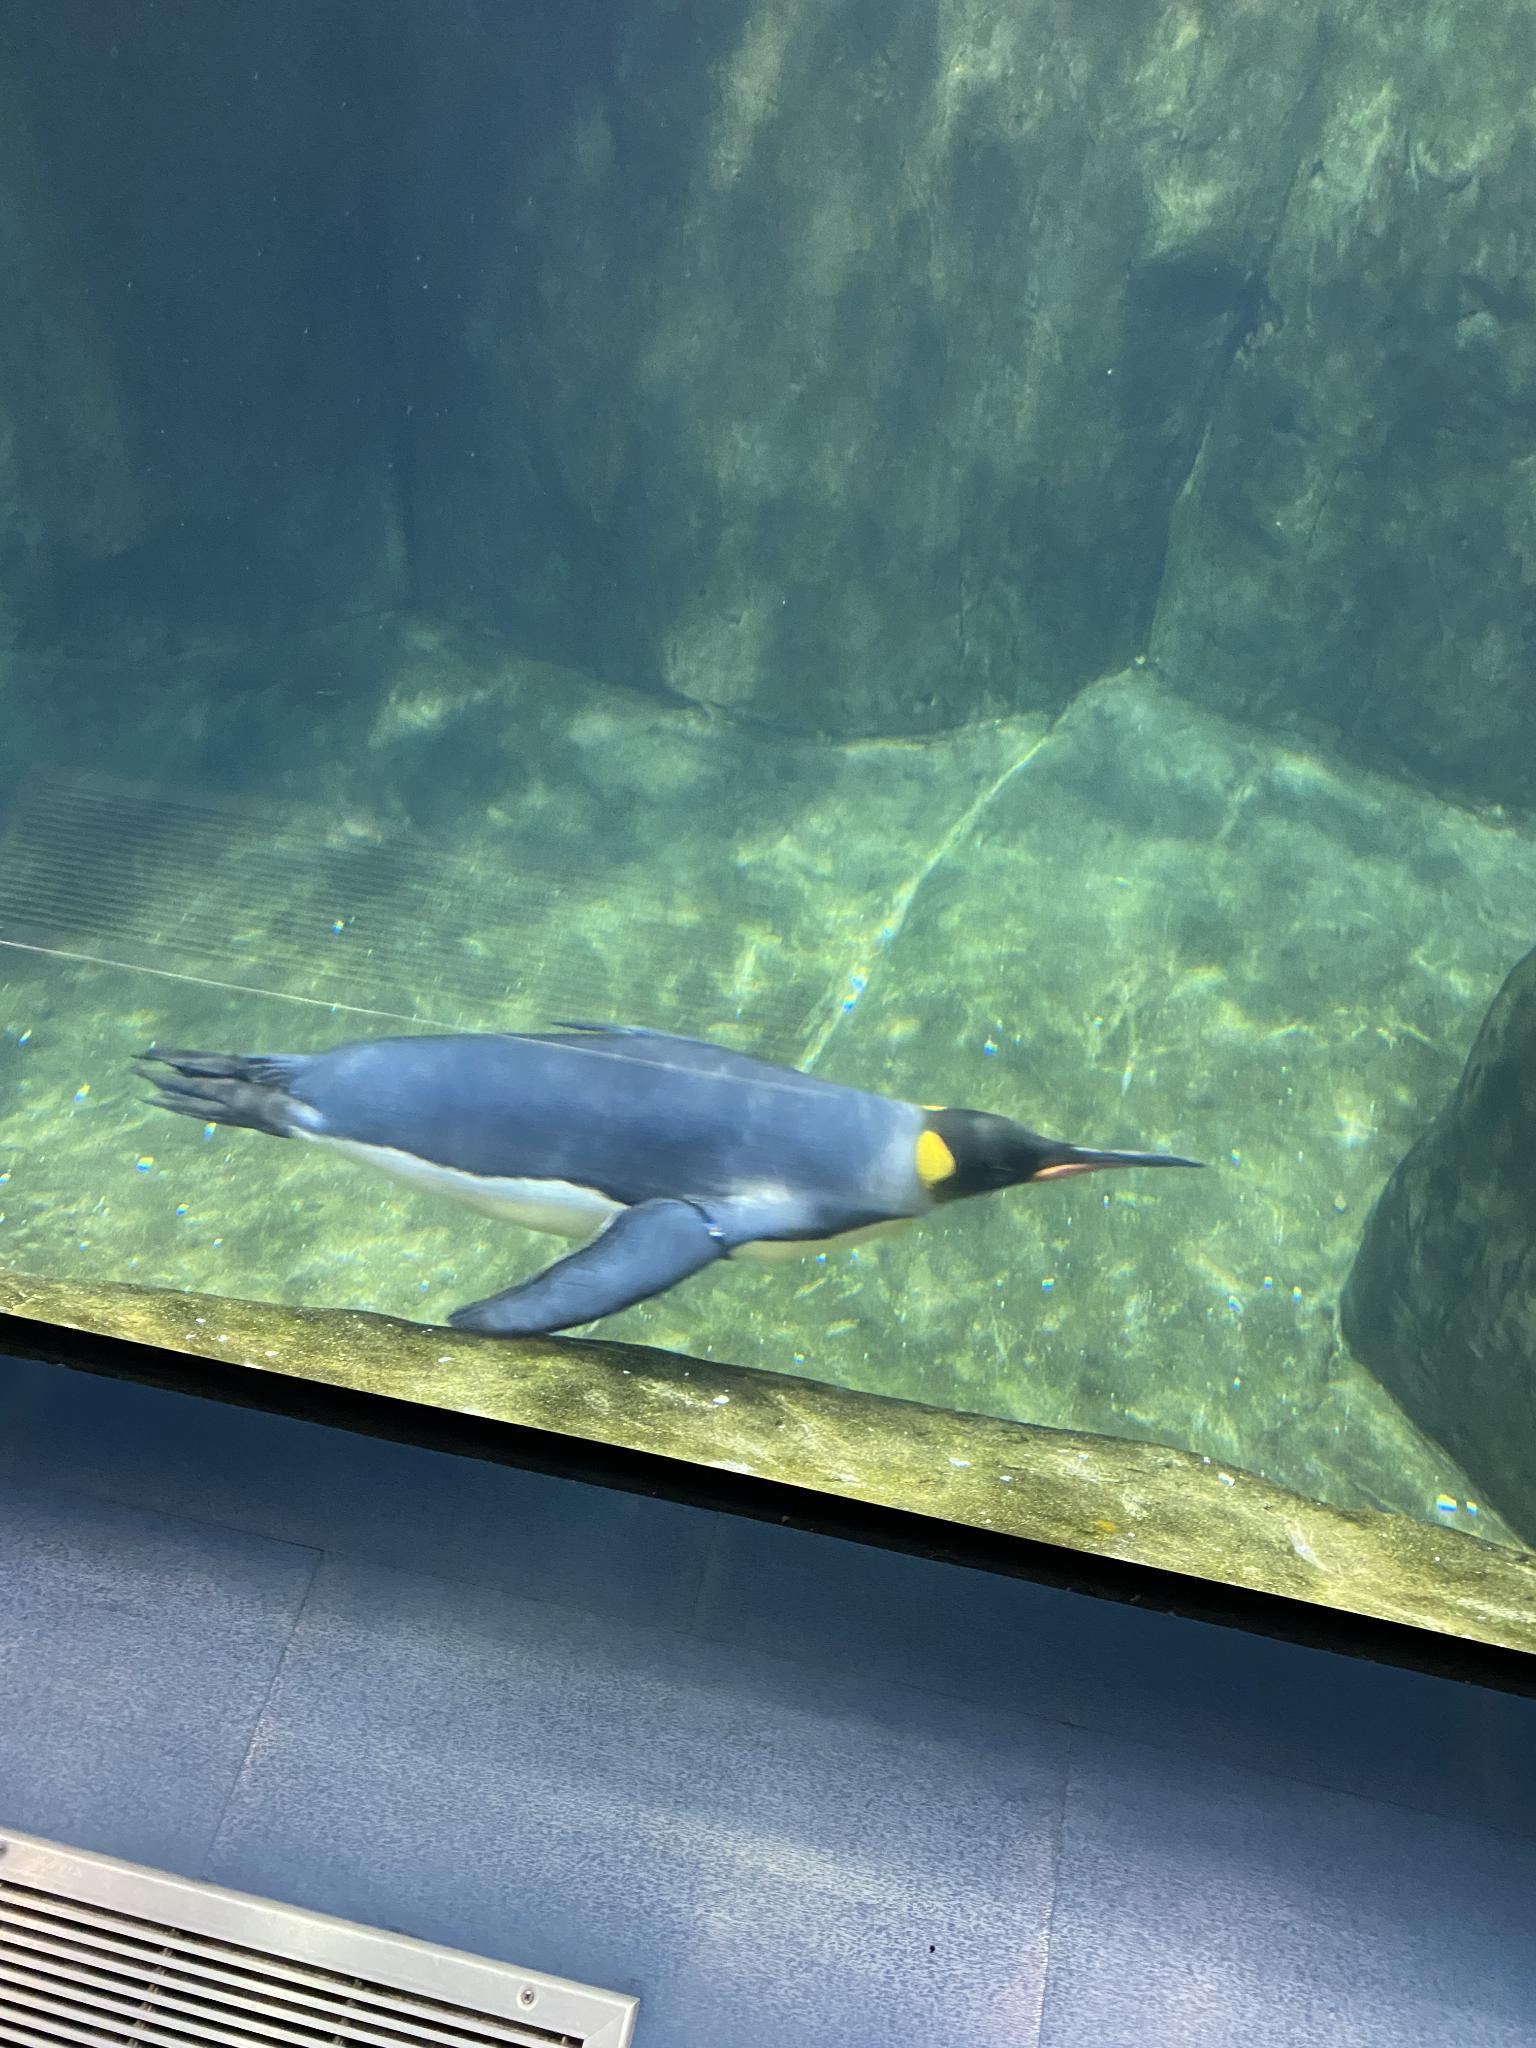penguin: (137, 1005, 1217, 1326)
